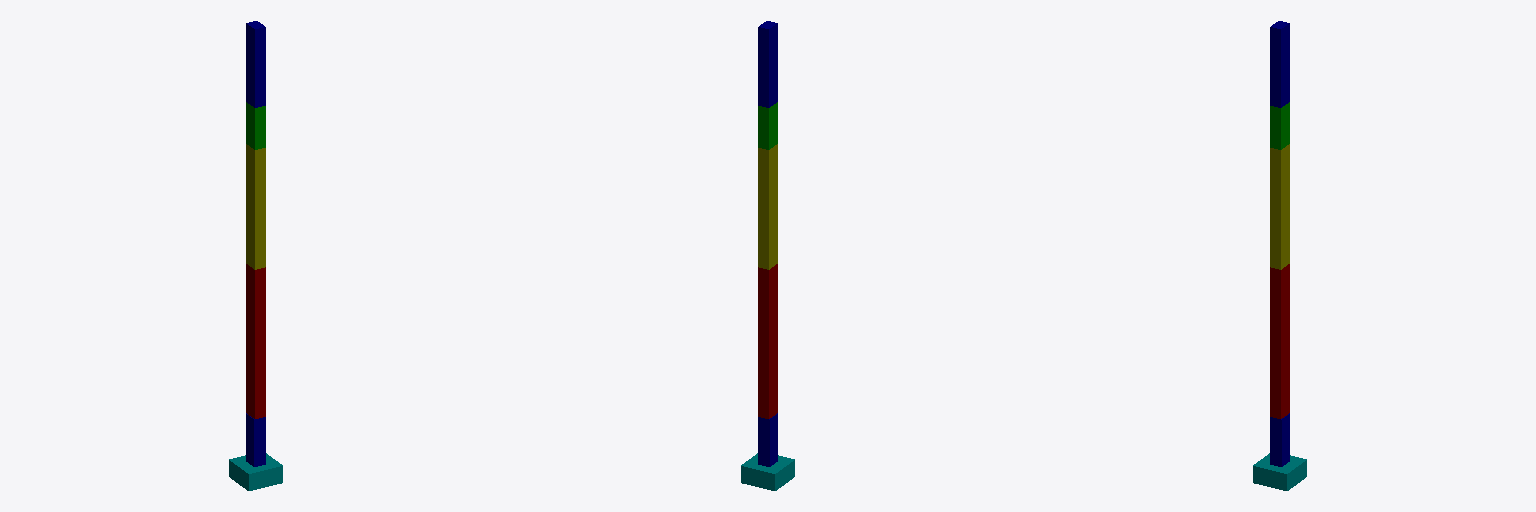
The robot description file, URDF, robot "omnipointer":
<?xml version="1.0" ?>
<!-- =================================================================================== -->
<!-- |    This document was autogenerated by xacro from omni_description/robots/omnipointer_arm_only.urdf.xacro | -->
<!-- |    EDITING THIS FILE BY HAND IS NOT RECOMMENDED                                 | -->
<!-- =================================================================================== -->
<robot name="omnipointer" xmlns:xacro="http://ros.org/wiki/xacro">
  <!--MX64trntbl + MX106:  ? + 0.153 -->
  <!-- singleaxismount + 2.5girder + singleaxismount + base + MX106: 0.007370876 + 0.0226796 + 0.007370876 + ? + 0.153 -->
  <!-- frame106 + singleaxismount + adjustgirder + singleaxismount + base + MX28: 0.0907185 + 0.00737088 + 0.110563 + 0.00737088 + ? + 0.077 -->
  <!-- frame28 + singleaxismount + 5girder + singleaxismount + base + MX28: 0.0907185 + 0.00737088 + 0.0368544 + 0.00737088 + ? + 0.077 -->
  <!-- frame28 + singleaxismount + 2.5girder + singleaxismount + tip: 0.0907185 + 0.00737088 + 0.0226796 + 0.00737088 + ? -->
  <material name="omni/Blue">
    <color rgba="0 0 0.5 1"/>
  </material>
  <material name="omni/Red">
    <color rgba="0.5 0 0 1"/>
  </material>
  <material name="omni/Green">
    <color rgba="0 0.5 0 1"/>
  </material>
  <material name="omni/Yellow">
    <color rgba="0.5 0.5 0 1"/>
  </material>
  <material name="omni/LightGrey">
    <color rgba="0 0.5 0.5 1"/>
  </material>
  <material name="omni/DarkGrey">
    <color rgba="0.5 0 0.5 1"/>
  </material>
  <!-- Now we can start using the macros xacro:included above to define the actual omnipointer -->
  <!-- The first use of a macro.  This one was defined in youbot_base/base.urdf.xacro above.
       A macro like this will expand to a set of link and joint definitions, and to additional
       Gazebo-related extensions (sensor plugins, etc).  The macro takes an argument, name,
       that equals "base", and uses it to generate names for its component links and joints
       (e.g., base_link).  The xacro:included origin block is also an argument to the macro.  By convention,
       the origin block defines where the component is w.r.t its parent (in this case the parent
       is the world frame). For more, see http://www.ros.org/wiki/xacro -->
  <!-- foot for arm-->
  <link name="base_link">
    <inertial>
      <origin rpy="0 0 0" xyz="0 0 0"/>
      <mass value="10.0"/>
      <inertia ixx="0.1" ixy="0" ixz="0" iyy="0.1" iyz="0" izz="0.1"/>
    </inertial>
  </link>
  <!-- joint between base_link and arm_0_link -->
  <joint name="arm_joint_0" type="fixed">
    <origin rpy="0 0 0" xyz="0 0 0"/>
    <parent link="base_link"/>
    <child link="arm_link_0"/>
  </joint>
  <link name="arm_link_0">
    <visual>
      <origin rpy="0 0 0" xyz="0 0 0.02725"/>
      <geometry>
        <box size="0.1143 0.1143 0.0545"/>
      </geometry>
      <material name="omni/LightGrey"/>
    </visual>
    <collision>
      <origin rpy="0 0 0" xyz="0 0 0.02725"/>
      <geometry>
        <box size="0.1143 0.1143 0.0545"/>
      </geometry>
    </collision>
    <inertial>
      <!-- CENTER OF MASS -->
      <origin rpy="0 0 0" xyz="0 0 0.00425"/>
      <mass value="0.2"/>
      <!-- box inertia: 1/12*m(y^2+z^2), ... -->
      <inertia ixx="0.000267245666667" ixy="0" ixz="0" iyy="0.000267245666667" iyz="0" izz="0.000435483"/>
    </inertial>
  </link>
  <joint name="arm_joint_1" type="revolute">
    <parent link="arm_link_0"/>
    <child link="arm_link_1"/>
    <dynamics damping="3.0" friction="0.3"/>
    <limit effort="30.0" lower="-3.1415926535" upper="3.1415926535" velocity="5.0"/>
    <origin rpy="0 0 0" xyz="0 0 0.0545"/>
    <axis xyz="0 0 1"/>
  </joint>
  <link name="arm_link_1">
    <visual>
      <origin rpy="0 0 0" xyz="0 0 0.075"/>
      <geometry>
        <box size="0.0402 0.05 0.15"/>
      </geometry>
      <material name="omni/Blue"/>
    </visual>
    <collision>
      <origin rpy="0 0 0" xyz="0 0 0.075"/>
      <geometry>
        <box size="0.0402 0.05 0.15"/>
      </geometry>
    </collision>
    <inertial>
      <!-- CENTER OF MASS -->
      <origin rpy="0 0 0" xyz="0 0 0.075"/>
      <mass value="0.190421352"/>
      <!-- box inertia: 1/12*m(y^2+z^2), ... -->
      <inertia ixx="0.000279744834534" ixy="0" ixz="0" iyy="0.000265717763008" iyz="0" izz="6.53151584738e-05"/>
    </inertial>
  </link>
  <joint name="arm_joint_2" type="revolute">
    <parent link="arm_link_1"/>
    <child link="arm_link_2"/>
    <dynamics damping="3.0" friction="0.3"/>
    <limit effort="30.0" lower="-1.75079632679" upper="1.75079632679" velocity="5.0"/>
    <origin rpy="0 0 0" xyz="0 0 0.15"/>
    <axis xyz="0 1 0"/>
  </joint>
  <link name="arm_link_2">
    <visual>
      <origin rpy="0 0 0" xyz="0 0 0.2355"/>
      <geometry>
        <box size="0.0356 0.05 0.471"/>
      </geometry>
      <material name="omni/Red"/>
    </visual>
    <collision>
      <origin rpy="0 0 0" xyz="0 0 0.2355"/>
      <geometry>
        <box size="0.0356 0.05 0.471"/>
      </geometry>
    </collision>
    <inertial>
      <!-- CENTER OF MASS -->
      <origin rpy="0 0 0" xyz="0 0 0.2355"/>
      <mass value="0.29302326"/>
      <!-- box inertia: 1/12*m(y^2+z^2), ... -->
      <inertia ixx="0.00251484771035" ixy="0" ixz="0" iyy="0.00248474836108" iyz="0" izz="9.19936757328e-05"/>
    </inertial>
  </link>
  <joint name="arm_joint_3" type="revolute">
    <parent link="arm_link_2"/>
    <child link="arm_link_3"/>
    <dynamics damping="3.0" friction="0.3"/>
    <limit effort="30.0" lower="-1.75079632679" upper="1.75079632679" velocity="5.0"/>
    <origin rpy="0 0 0" xyz="0 0 0.471"/>
    <axis xyz="0 1 0"/>
  </joint>
  <link name="arm_link_3">
    <visual>
      <origin rpy="0 0 0" xyz="0 0 0.1885"/>
      <geometry>
        <box size="0.0356 0.05 0.377"/>
      </geometry>
      <material name="omni/Yellow"/>
    </visual>
    <collision>
      <origin rpy="0 0 0" xyz="0 0 0.1885"/>
      <geometry>
        <box size="0.0356 0.05 0.377"/>
      </geometry>
    </collision>
    <inertial>
      <!-- CENTER OF MASS -->
      <origin rpy="0 0 0" xyz="0 0 0.1985"/>
      <mass value="0.21931466"/>
      <!-- box inertia: 1/12*m(y^2+z^2), ... -->
      <inertia ixx="0.000791433503053" ixy="0" ixz="0" iyy="0.000768905501178" iyz="0" izz="6.88531064581e-05"/>
    </inertial>
  </link>
  <joint name="arm_joint_4" type="revolute">
    <parent link="arm_link_3"/>
    <child link="arm_link_4"/>
    <dynamics damping="3.0" friction="0.3"/>
    <limit effort="30.0" lower="-1.75079632679" upper="1.75079632679" velocity="5.0"/>
    <origin rpy="0 0 0" xyz="0 0 0.377"/>
    <axis xyz="0 1 0"/>
  </joint>
  <link name="arm_link_4">
    <visual>
      <origin rpy="0 0 0" xyz="0 0 0.066"/>
      <geometry>
        <box size="0.0356 0.05 0.132"/>
      </geometry>
      <material name="omni/Green"/>
    </visual>
    <collision>
      <origin rpy="0 0 0" xyz="0 0 0.066"/>
      <geometry>
        <box size="0.0356 0.05 0.132"/>
      </geometry>
    </collision>
    <inertial>
      <!-- CENTER OF MASS -->
      <origin rpy="0 0 0" xyz="0 0 0.076"/>
      <mass value="0.15813986"/>
      <!-- box inertia: 1/12*m(y^2+z^2), ... -->
      <inertia ixx="0.00037242266488" ixy="0" ixz="0" iyy="0.000356178538461" iyz="0" izz="4.96474819141e-05"/>
    </inertial>
  </link>
  <joint name="arm_joint_5" type="revolute">
    <parent link="arm_link_4"/>
    <child link="arm_link_5"/>
    <dynamics damping="3.0" friction="0.3"/>
    <limit effort="30.0" lower="-1.75079632679" upper="1.75079632679" velocity="5.0"/>
    <origin rpy="0 0 0" xyz="0 0 0.132"/>
    <axis xyz="1 0 0"/>
  </joint>
  <link name="arm_link_5">
    <visual>
      <origin rpy="0 0 0" xyz="0 0 0.124"/>
      <geometry>
        <box size="0.0356 0.05 0.248"/>
      </geometry>
      <material name="omni/Blue"/>
    </visual>
    <collision>
      <origin rpy="0 0 0" xyz="0 0 0.124"/>
      <geometry>
        <box size="0.0356 0.05 0.248"/>
      </geometry>
    </collision>
    <inertial>
      <!-- CENTER OF MASS -->
      <origin rpy="0 0 0" xyz="0 0 0.124"/>
      <mass value="0.15813986"/>
      <!-- box inertia: 1/12*m(y^2+z^2), ... -->
      <inertia ixx="0.00037242266488" ixy="0" ixz="0" iyy="0.000356178538461" iyz="0" izz="4.96474819141e-05"/>
    </inertial>
  </link>
  <joint name="arm_joint_6" type="fixed">
    <parent link="arm_link_5"/>
    <child link="arm_link_6"/>
    <origin rpy="0 0 0" xyz="0 0 0.248"/>
  </joint>
  <link name="arm_link_6">
    <inertial>
      <!-- CENTER OF MASS -->
      <origin rpy="0 0 0" xyz="0 0 0"/>
      <mass value="1e-12"/>
      <!-- box inertia: 1/12*m(y^2+z^2), ... -->
      <inertia ixx="1e-12" ixy="0" ixz="0" iyy="1e-12" iyz="0" izz="1e-12"/>
    </inertial>
  </link>
  <!-- END OF ARM LINKS/JOINTS -->
</robot>

--- Facts derived from the render (not from the file) ---
The picture shows the robot from 3 angles, left to right: view 1: azimuth 30°, elevation 25°; view 2: azimuth 150°, elevation 25°; view 3: azimuth 330°, elevation 25°; orthographic projection.
Model omnipointer with 8 links and 7 joints (5 revolute, 2 fixed), rooted at base_link, posed every joint at zero.
Links seen in each view (by area): view 1: arm_link_2, arm_link_3, arm_link_5, arm_link_0, arm_link_1, arm_link_4; view 2: arm_link_2, arm_link_3, arm_link_5, arm_link_0, arm_link_1, arm_link_4; view 3: arm_link_2, arm_link_3, arm_link_5, arm_link_0, arm_link_1, arm_link_4.
Boxes of the visible links, left/top/right/bottom form: arm_link_2: left=246, top=264, right=265, bottom=418; arm_link_3: left=246, top=144, right=265, bottom=269; arm_link_5: left=246, top=21, right=265, bottom=107; arm_link_0: left=229, top=453, right=282, bottom=490; arm_link_1: left=246, top=413, right=265, bottom=466; arm_link_4: left=246, top=102, right=265, bottom=149; arm_link_2: left=758, top=264, right=777, bottom=418; arm_link_3: left=758, top=144, right=777, bottom=269; arm_link_5: left=758, top=21, right=777, bottom=107; arm_link_0: left=741, top=453, right=794, bottom=490; arm_link_1: left=758, top=413, right=777, bottom=466; arm_link_4: left=758, top=102, right=777, bottom=149; arm_link_2: left=1270, top=264, right=1289, bottom=418; arm_link_3: left=1270, top=144, right=1289, bottom=269; arm_link_5: left=1270, top=21, right=1289, bottom=107; arm_link_0: left=1253, top=453, right=1306, bottom=490; arm_link_1: left=1270, top=413, right=1289, bottom=466; arm_link_4: left=1270, top=102, right=1289, bottom=149.
Bounding box of the posed robot: 0.1143 × 0.1143 × 1.43 m (x, y, z).
Geometry: primitives only (box / cylinder / sphere), no mesh files.
